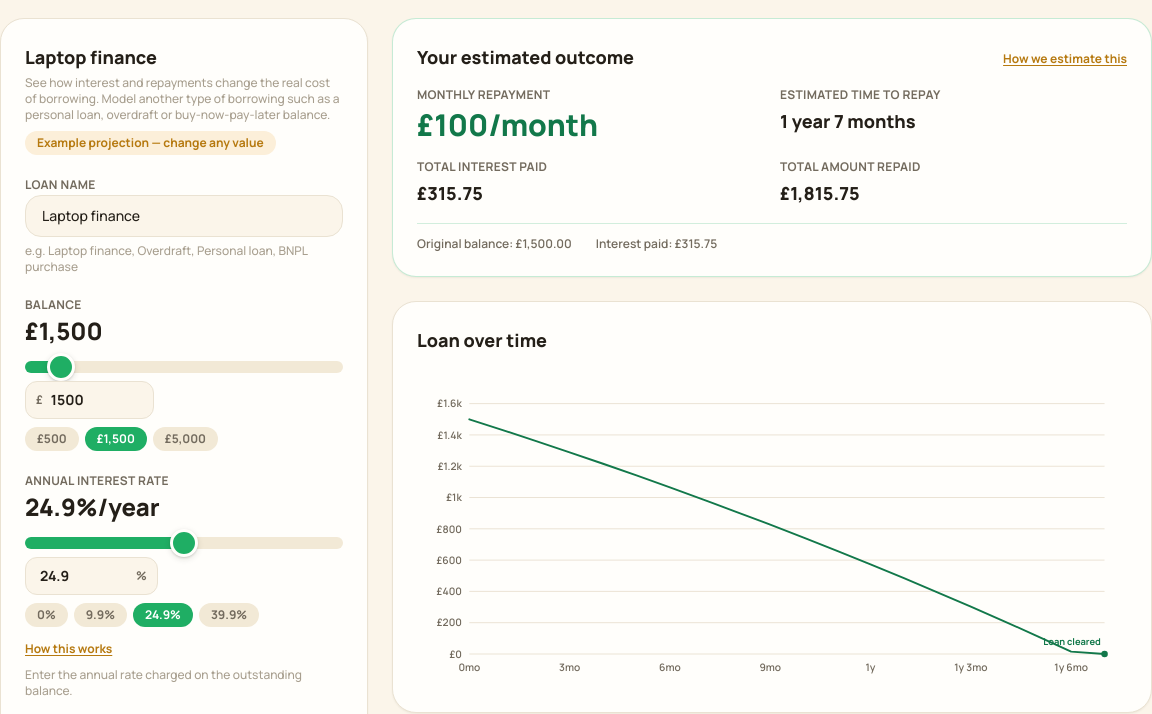
it: CustomLoanPanel - editing the example › restores the example values when Reset to example is clicked
Replace the text in the field labelled "Loan name" with "Overdraft" at [184, 216], box [25,195,343,237]
(page scrolled)
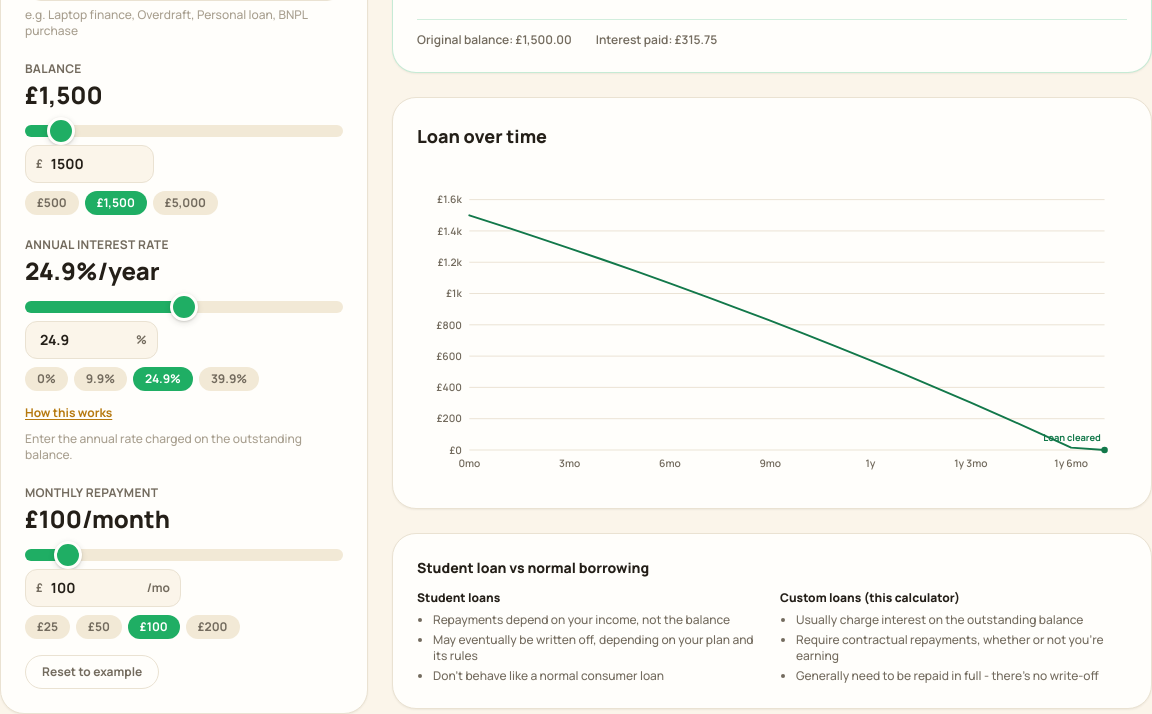
Expected: the text "Example projection — change any value" is gone
Click the button "Reset to example" at [92, 672], box [25,655,159,689]
(page scrolled)
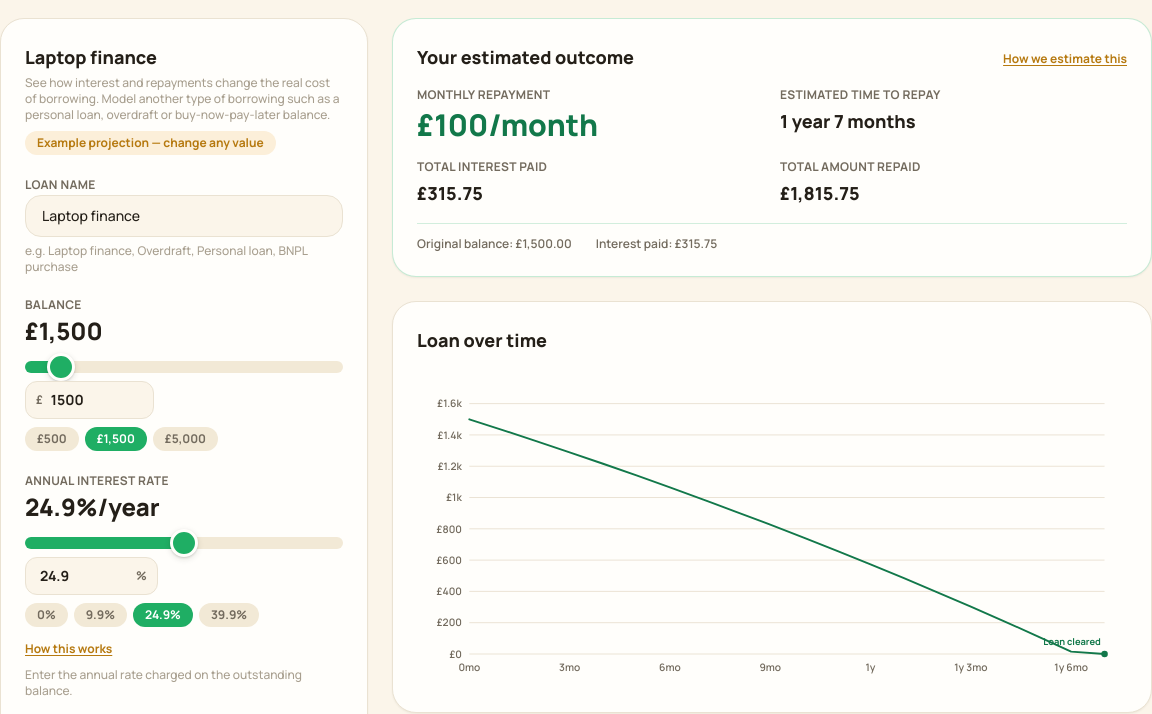
Expected: the text "Example projection — change any value" is shown, [25,131,276,155]
Expected: the field labelled "Loan name" holds "Laptop finance", [25,195,343,237]
